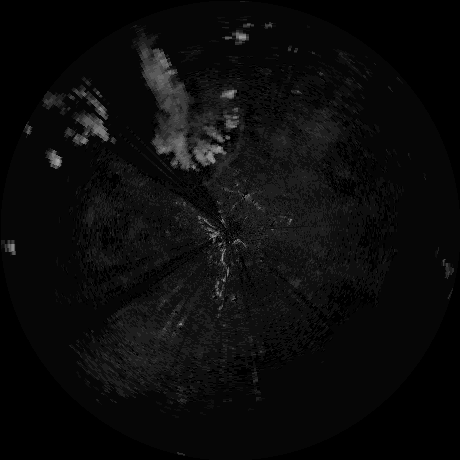frontgust: (210, 123, 247, 182)
